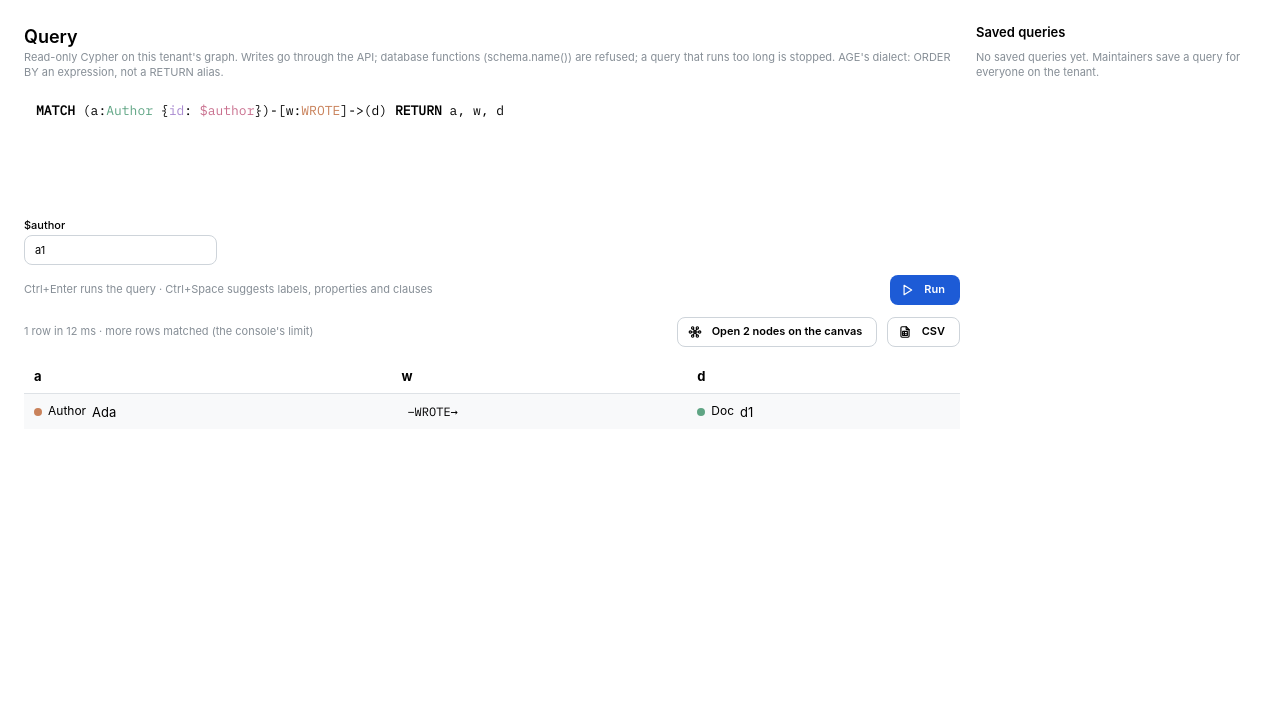
Scenario: the Query view › shows what graphos refused
Click the button "Run" at x=925, y=290, box [890, 275, 960, 305]
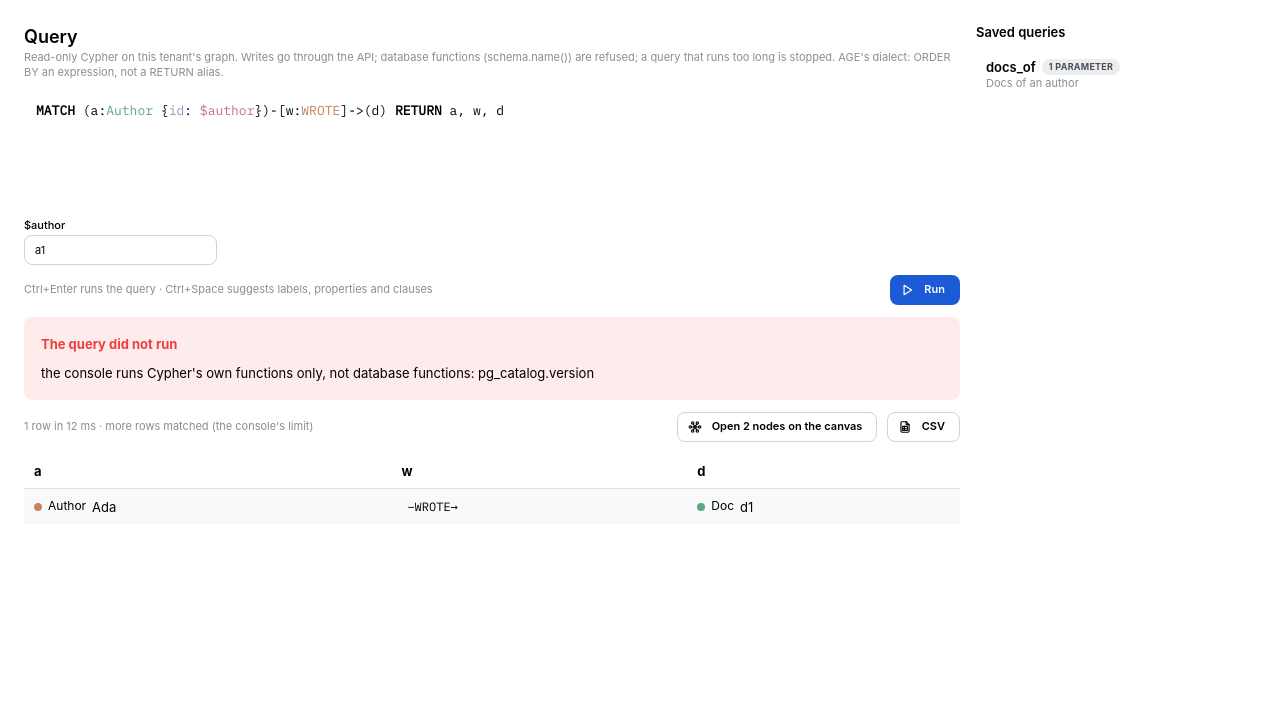
Check: the text "not database functions: pg_catalog.version" is shown, box [41, 365, 594, 381]
